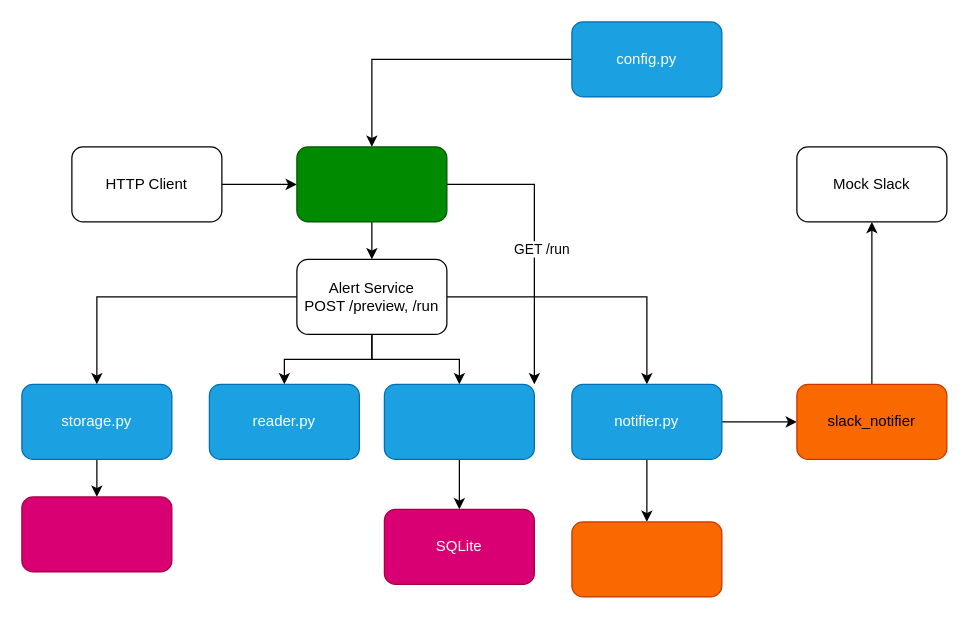
Image size: 969x619. Some labels were removed from this diagram. The shapes that lost their labels are listed below. From the top down, each one's centre as x and y in pixels, then its label:
the point at 371,184: Fast API Routes
the point at 458,421: repository.py
the point at 96,534: Parquet File GCS, S3, Local
the point at 646,559: email_notifier unknown region stub
